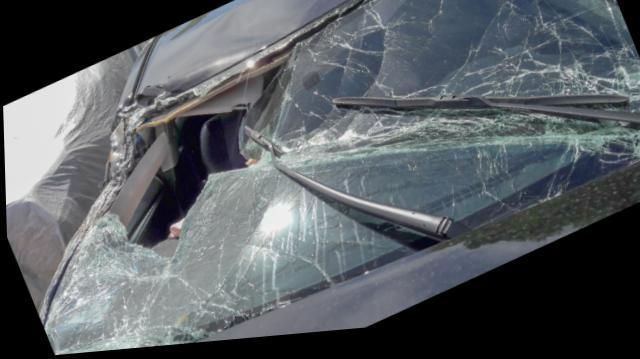dent: (205, 0, 315, 57)
glass shatter: (41, 0, 640, 356)
